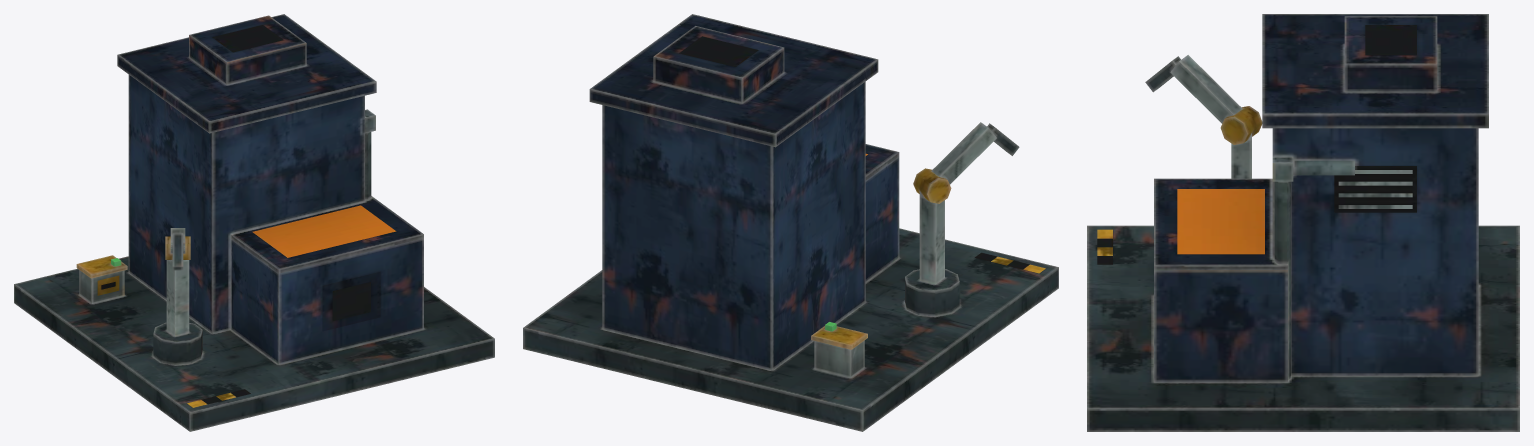
The model's file is smelter.glb.
The picture shows the model from 3 angles, left to right: view 1: azimuth 30°, elevation 25°; view 2: azimuth 150°, elevation 25°; view 3: azimuth 270°, elevation 25°; orthographic projection. The views are drawn at different scales.
Parts seen in each view (by area): view 1: te_smelter; view 2: te_smelter; view 3: te_smelter.
Part boxes in pixels (box(x1,y1,x2,y2)): te_smelter: box(14, 14, 494, 431); te_smelter: box(523, 14, 1058, 431); te_smelter: box(1087, 14, 1519, 431).
Size of the model in its own units: 0.84 by 0.6806 by 0.84.
1 material, 1 textured.
